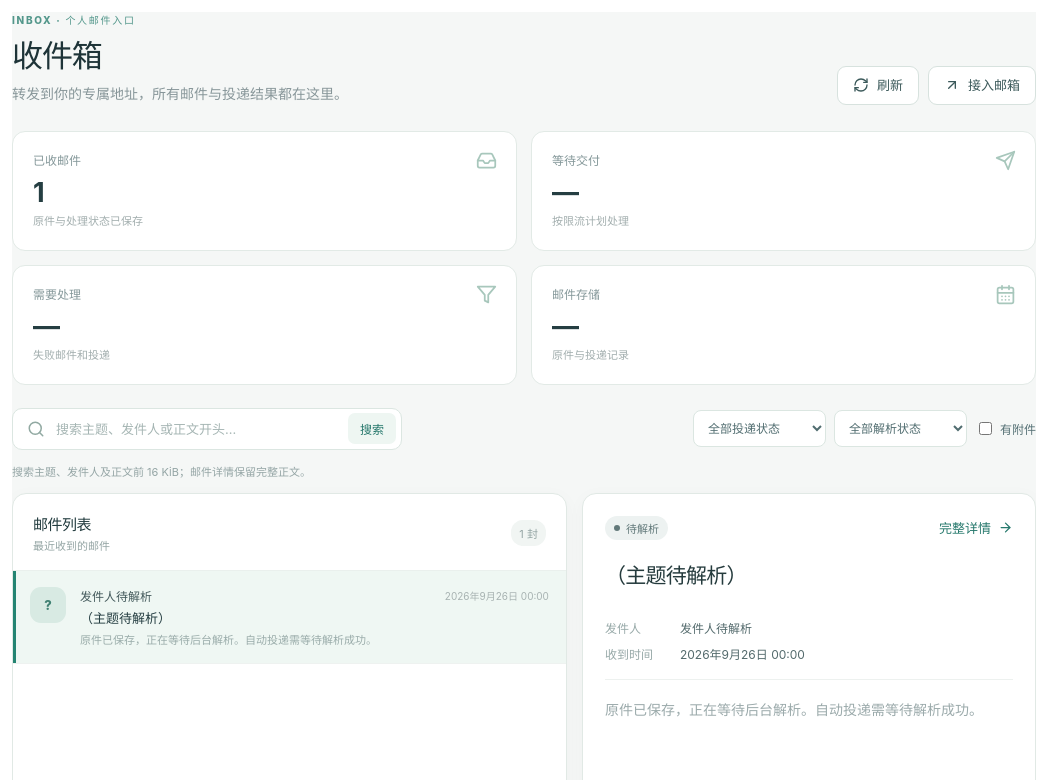
Test case: refreshes pending placeholders to the parsed subjectless email and actual content
This screenshot has width=1048, height=780.
Expected: the heading "（主题待解析）" is shown, [605,563,747,588]
Click the button "刷新" at {"x": 878, "y": 86}, box [837,66,919,105]
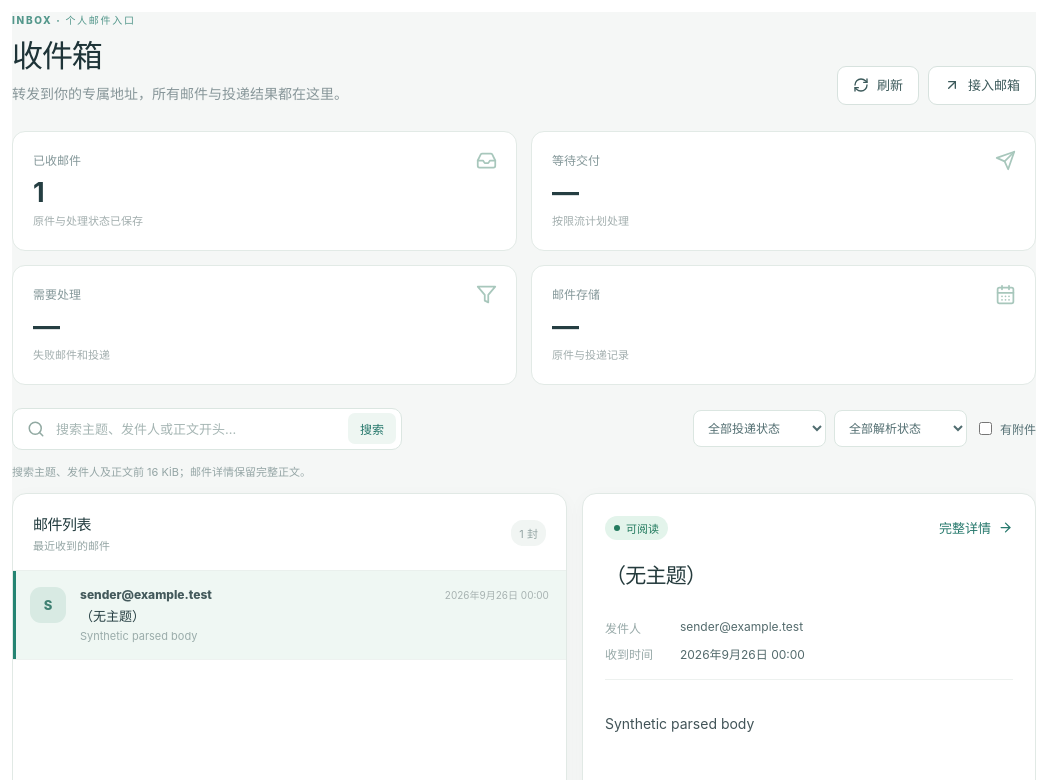
Expected: the heading "（无主题）" is shown, [605,563,706,588]
Expected: the button "（主题待解析）" is gone
Expected: the button "自动投递需等待解析成功" is gone
